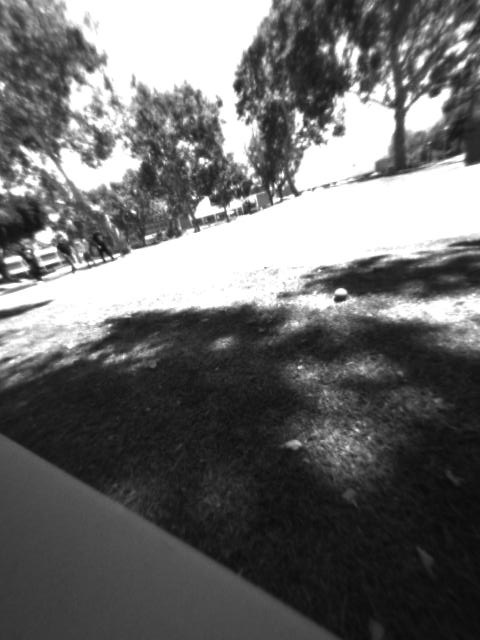dogtoy: (324, 279, 356, 308)
